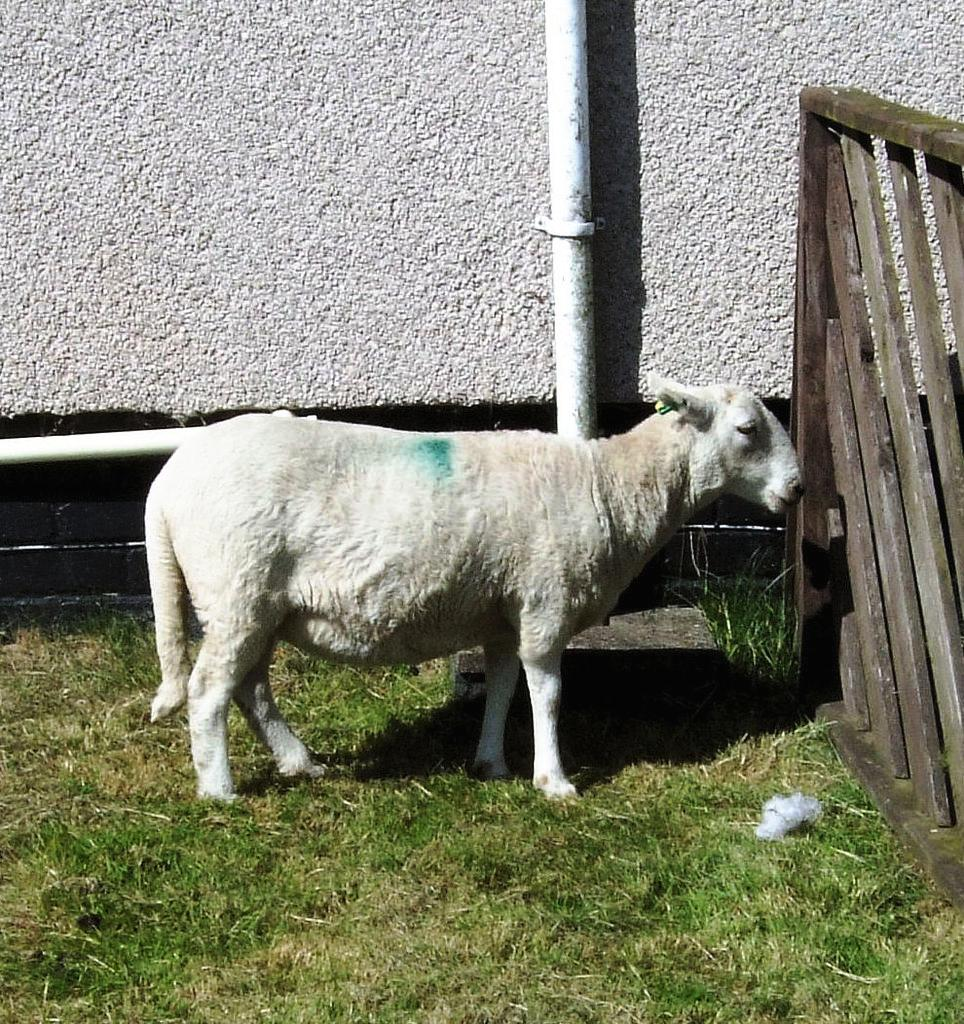Sheep: (144, 370, 804, 811)
